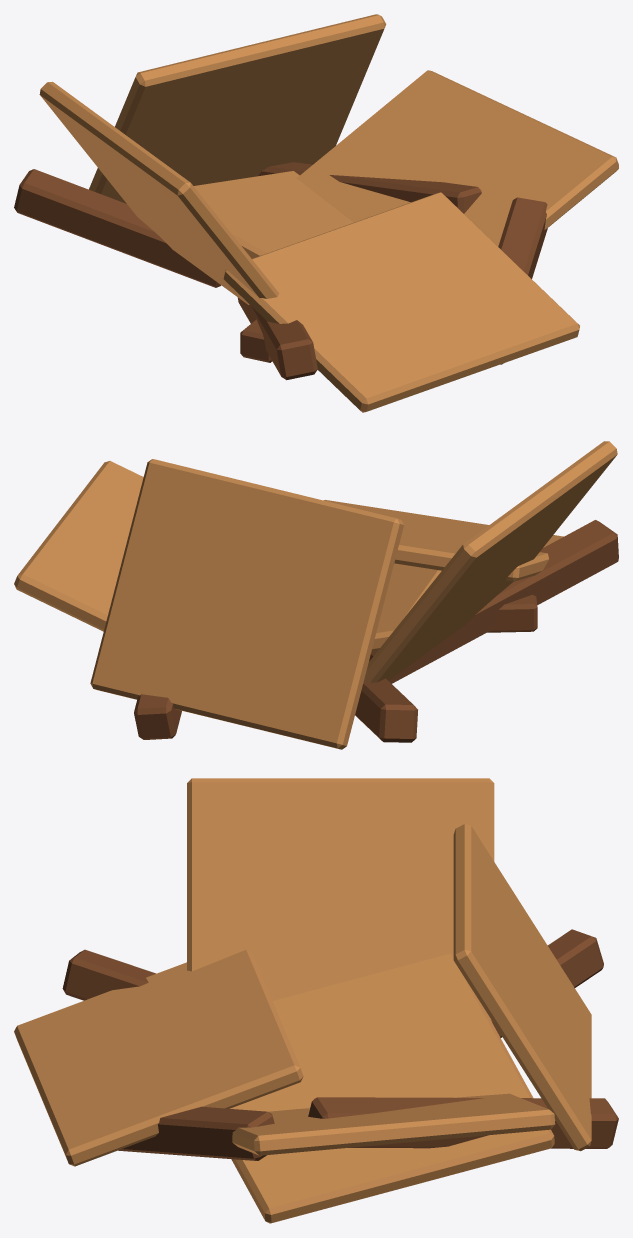
File: prop_crate_a_broken.glb
3 renders of one model, top to bottom at view 1: azimuth 30°, elevation 25°; view 2: azimuth 150°, elevation 25°; view 3: azimuth 270°, elevation 25°, orthographic. The views are drawn at different scales.
Visible parts, largest first — view 1: prop_crate_a_chunk_04, prop_crate_a_chunk_03, prop_crate_a_chunk_02, prop_crate_a_chunk_01, prop_crate_a_chunk_06, prop_crate_a_chunk_07, prop_crate_a_chunk_05, prop_crate_a_chunk_08; view 2: prop_crate_a_chunk_03, prop_crate_a_chunk_01, prop_crate_a_chunk_02, prop_crate_a_chunk_05, prop_crate_a_chunk_04, prop_crate_a_chunk_06, prop_crate_a_chunk_07, prop_crate_a_chunk_08; view 3: prop_crate_a_chunk_01, prop_crate_a_chunk_07, prop_crate_a_chunk_04, prop_crate_a_chunk_03, prop_crate_a_chunk_02, prop_crate_a_chunk_05, prop_crate_a_chunk_06.
Part boxes in pixels (bbox=[...]): prop_crate_a_chunk_04: bbox=[223, 192, 579, 412]; prop_crate_a_chunk_03: bbox=[89, 14, 386, 203]; prop_crate_a_chunk_02: bbox=[296, 70, 618, 246]; prop_crate_a_chunk_01: bbox=[39, 81, 279, 304]; prop_crate_a_chunk_06: bbox=[14, 169, 547, 364]; prop_crate_a_chunk_07: bbox=[194, 171, 353, 258]; prop_crate_a_chunk_05: bbox=[237, 162, 481, 380]; prop_crate_a_chunk_08: bbox=[240, 319, 272, 362]; prop_crate_a_chunk_03: bbox=[90, 459, 403, 749]; prop_crate_a_chunk_01: bbox=[364, 441, 617, 682]; prop_crate_a_chunk_02: bbox=[14, 461, 143, 631]; prop_crate_a_chunk_05: bbox=[134, 520, 618, 739]; prop_crate_a_chunk_04: bbox=[324, 500, 563, 581]; prop_crate_a_chunk_06: bbox=[355, 678, 417, 742]; prop_crate_a_chunk_07: bbox=[371, 563, 441, 652]; prop_crate_a_chunk_08: bbox=[487, 594, 537, 632]; prop_crate_a_chunk_01: bbox=[187, 778, 494, 1022]; prop_crate_a_chunk_07: bbox=[230, 953, 554, 1223]; prop_crate_a_chunk_04: bbox=[14, 950, 303, 1166]; prop_crate_a_chunk_03: bbox=[453, 824, 591, 1151]; prop_crate_a_chunk_02: bbox=[232, 1093, 555, 1155]; prop_crate_a_chunk_05: bbox=[62, 949, 618, 1148]; prop_crate_a_chunk_06: bbox=[118, 929, 603, 1160].
Size of the model in its own units: 1.46 by 0.6745 by 1.5.
